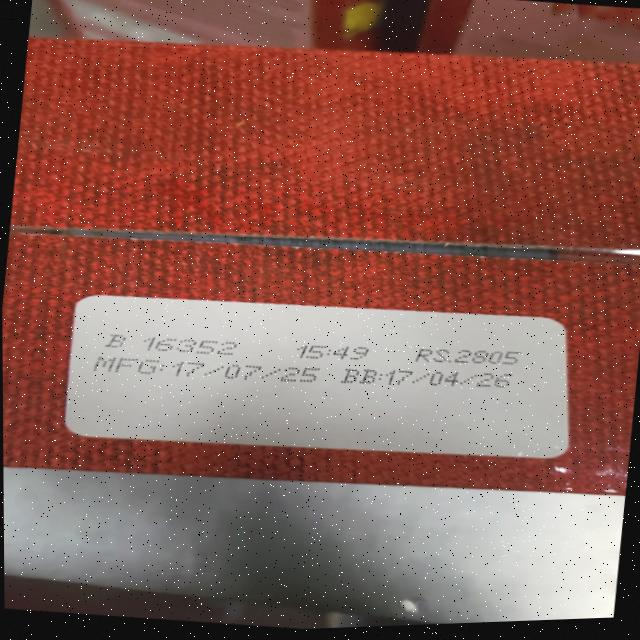BB: (345, 356, 517, 400)
Batch: (101, 327, 244, 362)
MFG: (95, 345, 324, 396)
RS: (414, 340, 526, 372)
TimeStamp: (294, 340, 374, 366)
